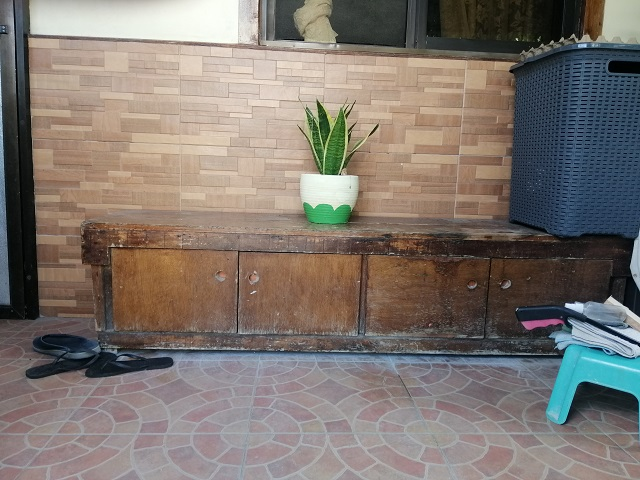plant: (299, 94, 368, 225)
wall: (32, 39, 295, 210), (376, 57, 507, 215)
